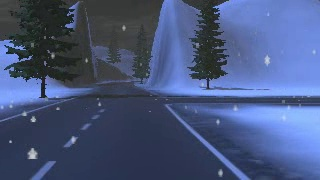Lane: (0, 81, 318, 179)
